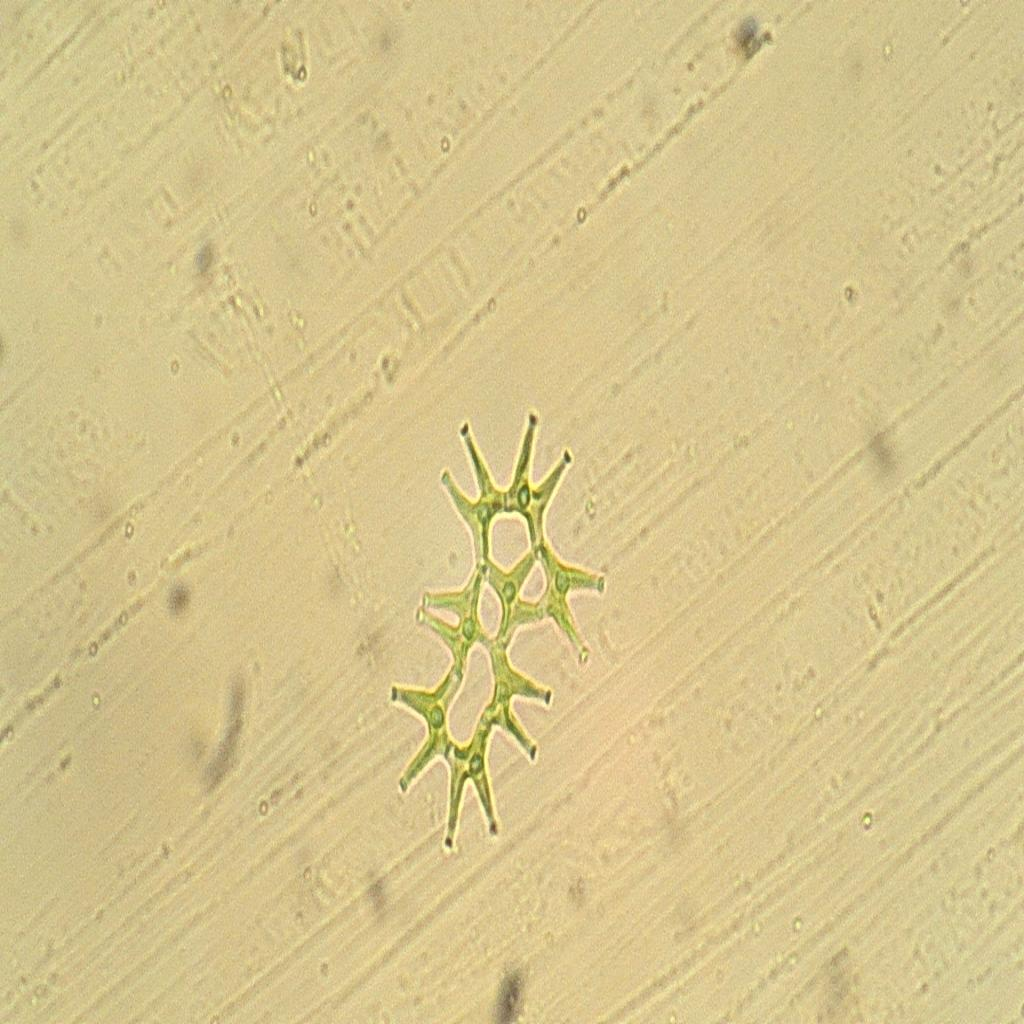Pediastrum_CFI: (380, 373, 612, 889)
